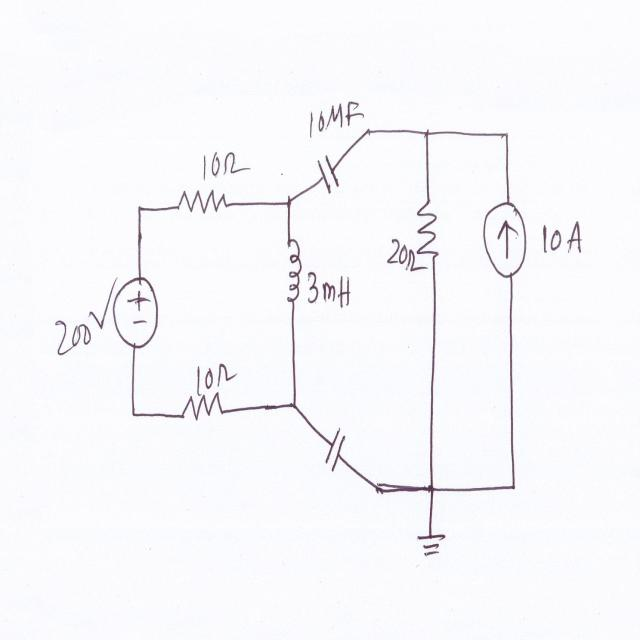capacitor: (322, 422, 348, 483), (315, 150, 341, 206)
current_source: (481, 193, 529, 280)
ground: (414, 530, 452, 556)
inductor: (283, 230, 303, 310)
resistor: (413, 199, 446, 266), (173, 181, 226, 221), (172, 394, 226, 422)
voltage_source: (112, 272, 162, 358)
